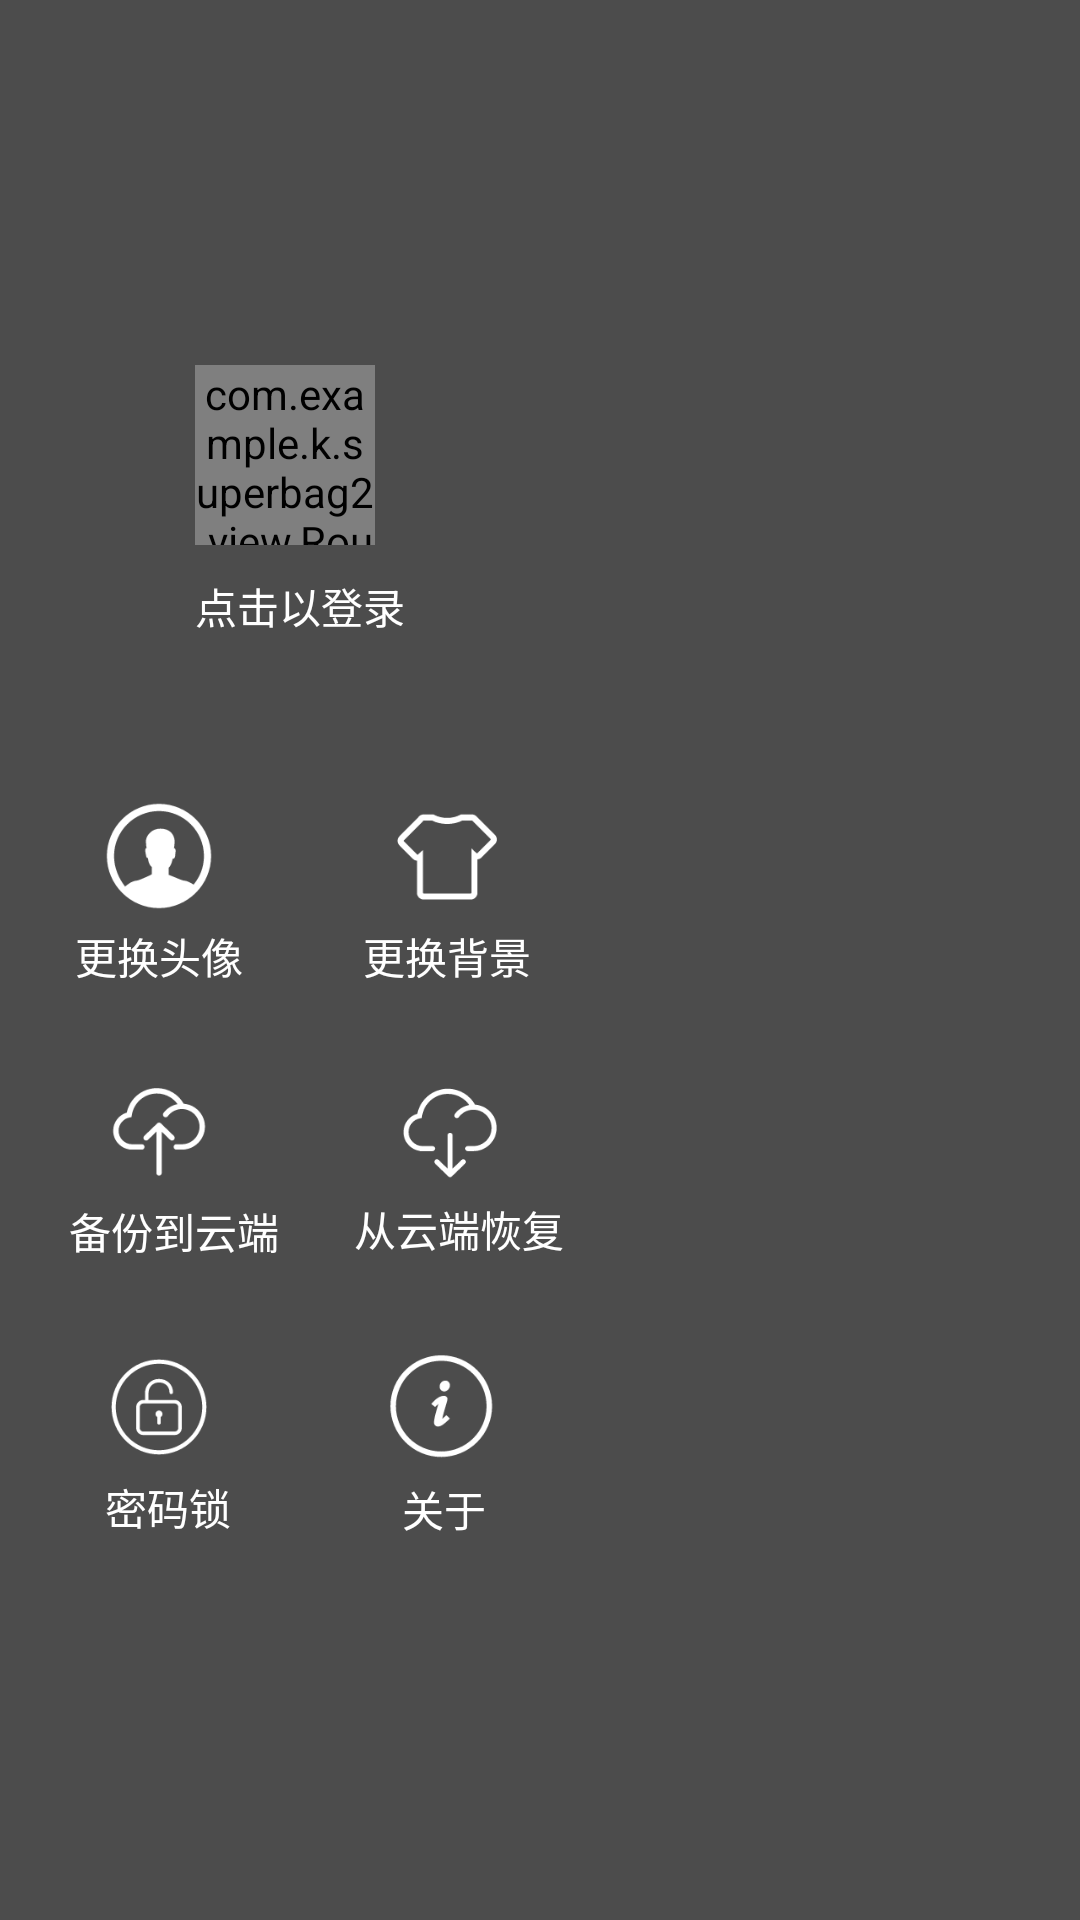

Screen size 1080x1920. Icon name, then its box in pixels as (x1, y1, x2, y2):
cloth: (397, 814, 497, 900)
download: (403, 1088, 497, 1178)
upload: (113, 1088, 206, 1176)
